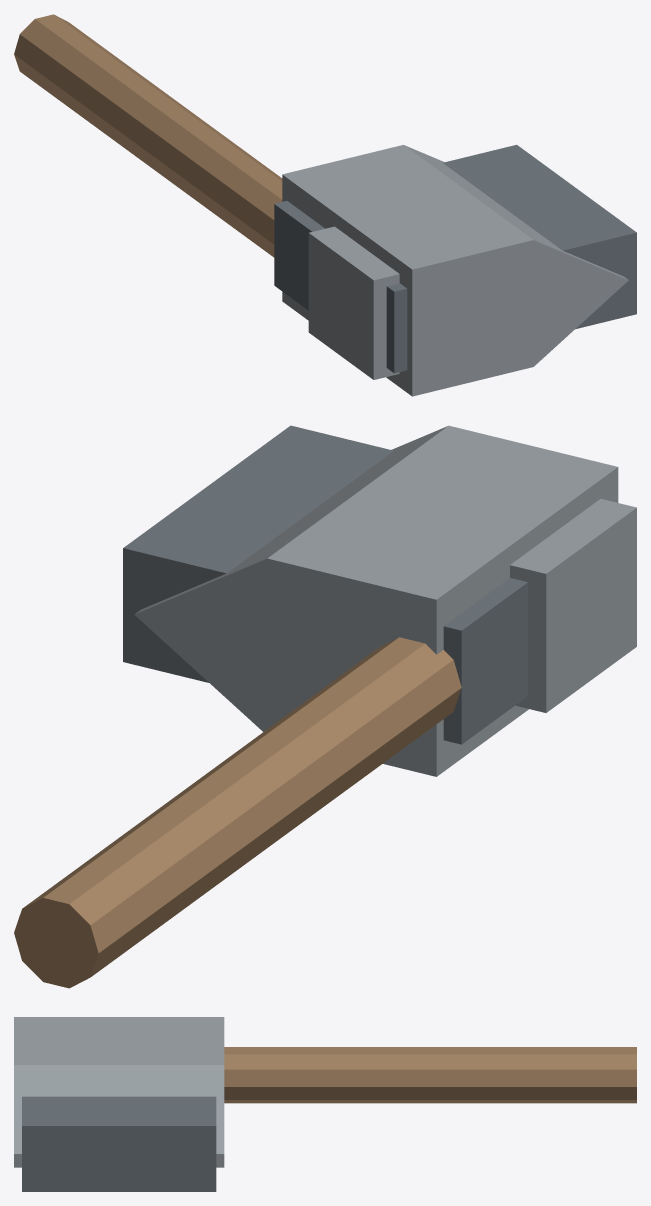
File: axe.glb
3 renders of one model, top to bottom at view 1: azimuth 30°, elevation 25°; view 2: azimuth 150°, elevation 25°; view 3: azimuth 270°, elevation 25°, orthographic. The views are drawn at different scales.
Visible parts, largest first — view 1: 02_cutting_edge, 00_handle, 01_axe_head, 03_eye; view 2: 02_cutting_edge, 00_handle, 01_axe_head, 03_eye; view 3: 00_handle, 01_axe_head, 02_cutting_edge.
Part boxes in pixels (x1,y1,x2,y2): 02_cutting_edge: (282,145,628,396); 00_handle: (14,14,282,257); 01_axe_head: (274,144,636,373); 03_eye: (308,226,399,379); 02_cutting_edge: (134,425,618,776); 00_handle: (14,637,461,988); 01_axe_head: (123,425,527,744); 03_eye: (510,499,636,712); 00_handle: (224,1047,636,1103); 01_axe_head: (22,1096,216,1191); 02_cutting_edge: (14,1017,224,1167).
Size of the model in its own units: 0.295 by 0.14 by 0.77.
